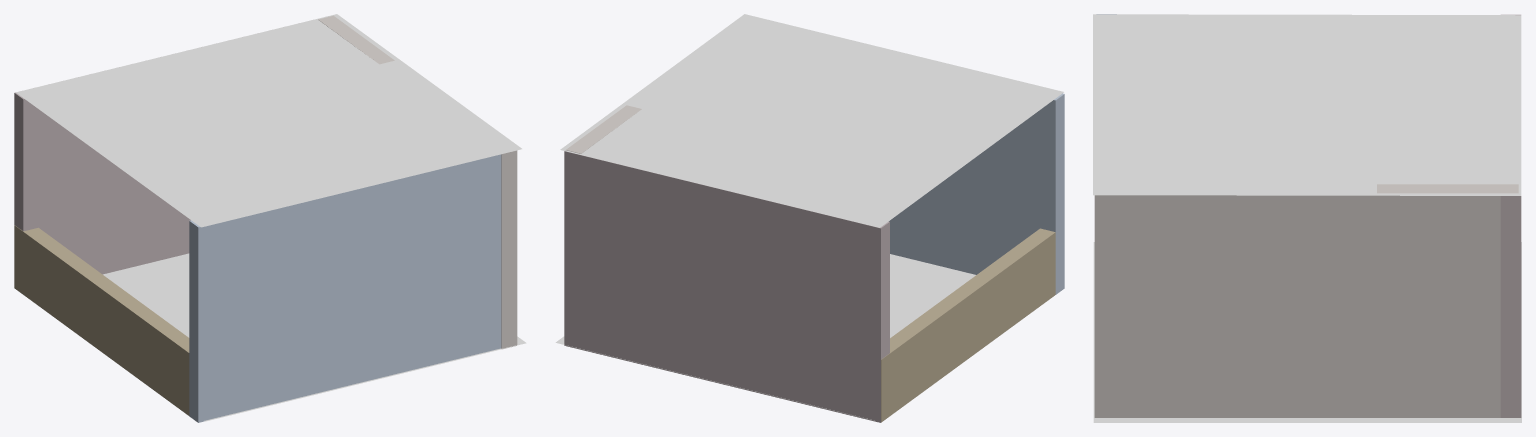
Rendered from walls3_test.dae.
3 renders of one model, left to right at view 1: azimuth 30°, elevation 25°; view 2: azimuth 150°, elevation 25°; view 3: azimuth 270°, elevation 25°, orthographic. The views are drawn at different scales.
Visible parts, largest first — view 1: Cube_002, Plane_001, Cube_003, Cube, Plane, Cube_001; view 2: Cube_003, Plane_001, Cube_002, Cube, Plane, Cube_001; view 3: Cube_001, Plane_001, Cube_003, Plane.
Boxes of the visible parts, x1,y1,x2,y2 form: Cube_002: [189, 154, 501, 422]; Plane_001: [16, 14, 521, 227]; Cube_003: [14, 92, 190, 274]; Cube: [14, 225, 189, 415]; Plane: [103, 253, 526, 421]; Cube_001: [318, 15, 517, 349]; Cube_003: [564, 151, 889, 422]; Plane_001: [560, 14, 1063, 227]; Cube_002: [889, 93, 1064, 294]; Cube: [881, 228, 1055, 422]; Plane: [555, 254, 975, 420]; Cube_001: [566, 105, 641, 153]; Cube_001: [1094, 184, 1518, 417]; Plane_001: [1093, 14, 1521, 195]; Cube_003: [1500, 14, 1521, 417]; Plane: [1093, 242, 1521, 422].
Bounding box in the file's own units: 16.45 × 16.18 × 9.43.
1 material, 1 textured.
